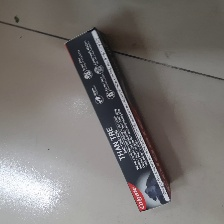Colgate Than: (64, 27, 172, 214)
